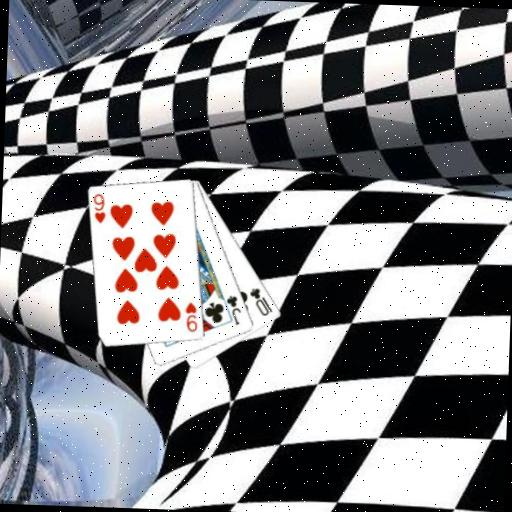10C: (246, 284, 275, 317)
9H: (182, 298, 200, 334), (89, 191, 107, 225)
JC: (223, 292, 243, 326)
